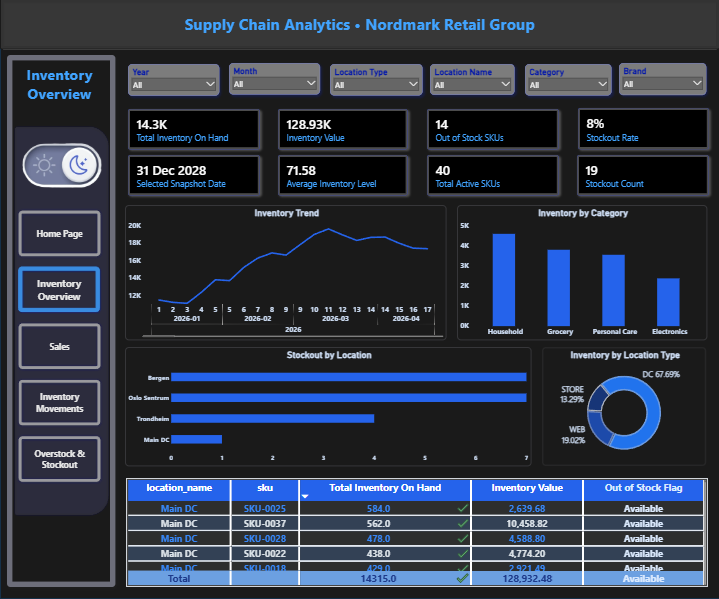

Layout of this report page (visuals, bound fields, positions):
{"tool":"powerbi","page":{"name":"Inventory Overview","canvas":[3600,3000],"ordinal":1},"visuals":[{"type":"slicer","fields":{"Values":["dim_date.Month (Short)"]},"box":[1142.7,322.7,456.4,158],"z":0,"group":"g3"},{"type":"group","id":"g1","title":"Group 2","box":[630,547.2,2903.9,205.9],"z":0,"group":"g4"},{"type":"cardVisual","fields":{"Data":["A Measures.Total Inventory On Hand"]},"box":[630,550.5,659.1,201.7],"z":0,"group":"g1"},{"type":"cardVisual","fields":{"Data":["A Measures.Selected Snapshot Date"]},"box":[630,780.5,659.1,201.7],"z":0,"group":"g2"},{"type":"slicer","fields":{"Values":["silver__location_master__lite.location_name"]},"box":[2152.2,325.8,423.3,155],"z":1000,"group":"g3"},{"type":"cardVisual","fields":{"Data":["A Measures.Inventory Value"]},"box":[1381.1,550.5,648,201.7],"z":1000,"group":"g1"},{"type":"shape","box":[33.7,632.2,515,1960],"z":1000},{"type":"group","id":"g2","title":"Group 2","box":[630,780.5,2905,201.7],"z":1000,"group":"g4"},{"type":"cardVisual","fields":{"Data":["A Measures.Average Inventory Level"]},"box":[1381.1,780.5,648,201.7],"z":1000,"group":"g2"},{"type":"slicer","fields":{"Values":["silver__product_master__lite.brand"]},"box":[3094.7,321.7,436.5,161],"z":2000,"group":"g3"},{"type":"cardVisual","fields":{"Data":["A Measures.Out of Stock SKUs"]},"box":[2124.8,550.5,659.1,201.7],"z":2000,"group":"g1"},{"type":"cardVisual","fields":{"Data":["A Measures.Total Active SKUs"]},"box":[2124.8,780.5,659.1,201.7],"z":2000,"group":"g2"},{"type":"shape","box":[33.7,280.5,542.4,2659.6],"z":3000},{"type":"slicer","fields":{"Values":["silver__product_master__lite.category"]},"box":[2625.1,325.8,433.2,158],"z":3000,"group":"g3"},{"type":"cardVisual","fields":{"Data":["A Measures.Stockout Rate %"]},"box":[2879.1,547.2,654.8,205.9],"z":3000,"group":"g1"},{"type":"cardVisual","fields":{"Data":["A Measures.Stockout Count"]},"box":[2875.9,780.5,659.1,201.7],"z":3000,"group":"g2"},{"type":"slicer","fields":{"Values":["dim_date.Year"]},"box":[639.7,325.8,457.4,159.4],"z":4000,"group":"g3"},{"type":"slicer","fields":{"Values":["silver__location_master__lite.location_type"]},"box":[1648.4,325.8,463,158],"z":5000,"group":"g3"},{"type":"lineChart","title":"Inventory Trend","fields":{"Category":["dim_date.Year","dim_date.Year-Month","dim_date.ISO Week Number"],"Y":["A Measures.Inventory On Hand (Month End)"]},"box":[624.7,1028.7,1608.5,677.1],"z":5000},{"type":"clusteredBarChart","title":"Stockout by Location","fields":{"Category":["silver__location_master__lite.location_name"],"Y":["A Measures.Out of Stock SKUs"]},"box":[625,1740,2033.3,596.7],"z":6000},{"type":"clusteredColumnChart","title":"Inventory by Category","fields":{"Category":["silver__product_master__lite.category"],"Y":["A Measures.Inventory On Hand (Month End)"]},"box":[2280,1030,1252.4,676.7],"z":7000},{"type":"donutChart","title":"Inventory by Location Type","fields":{"Category":["silver__location_master__lite.location_type"],"Y":["A Measures.Total Inventory On Hand"]},"box":[2710,1740,820.6,594.5],"z":8000},{"type":"tableEx","fields":{"Values":["silver__location_master__lite.location_name","silver__product_master__lite.sku","A Measures.Total Inventory On Hand","A Measures.Inventory Value","A Measures.Out of Stock Flag"]},"box":[625,2395,2910,545],"z":9000},{"type":"group","id":"g3","title":"Group 1","box":[639.7,321.7,2891.5,157.1],"z":10000},{"type":"group","id":"g4","title":"Group 3","box":[630,547.2,2900,435],"z":11000},{"type":"pageNavigator","box":[82.3,1047.4,435,1385],"z":12000},{"type":"image","box":[41.1,669.6,540,300],"z":13000},{"type":"textbox","box":[74.8,325.4,445.1,351.6],"z":14000},{"type":"shape","box":[0,0,3598.5,250.6],"z":15000}]}

Visuals, with their boxes in screenshot pixels (x1, y1, x2, y2), scaled from the page's 3600x3000 canvas onto the 719x599 screenshot:
slicer - dim_date.Month (Short): BBox(228, 64, 319, 96)
"Group 2" group: BBox(126, 109, 706, 150)
cardVisual - A Measures.Total Inventory On Hand: BBox(126, 110, 257, 150)
cardVisual - A Measures.Selected Snapshot Date: BBox(126, 156, 257, 196)
slicer - silver__location_master__lite.location_name: BBox(430, 65, 514, 96)
cardVisual - A Measures.Inventory Value: BBox(276, 110, 405, 150)
shape: BBox(7, 126, 110, 518)
"Group 2" group: BBox(126, 156, 706, 196)
cardVisual - A Measures.Average Inventory Level: BBox(276, 156, 405, 196)
slicer - silver__product_master__lite.brand: BBox(618, 64, 705, 96)
cardVisual - A Measures.Out of Stock SKUs: BBox(424, 110, 556, 150)
cardVisual - A Measures.Total Active SKUs: BBox(424, 156, 556, 196)
shape: BBox(7, 56, 115, 587)
slicer - silver__product_master__lite.category: BBox(524, 65, 611, 97)
cardVisual - A Measures.Stockout Rate %: BBox(575, 109, 706, 150)
cardVisual - A Measures.Stockout Count: BBox(574, 156, 706, 196)
slicer - dim_date.Year: BBox(128, 65, 219, 97)
slicer - silver__location_master__lite.location_type: BBox(329, 65, 422, 97)
"Inventory Trend" lineChart: BBox(125, 205, 446, 341)
"Stockout by Location" clusteredBarChart: BBox(125, 347, 531, 467)
"Inventory by Category" clusteredColumnChart: BBox(455, 206, 705, 341)
"Inventory by Location Type" donutChart: BBox(541, 347, 705, 466)
tableEx - silver__location_master__lite.location_name x silver__product_master__lite.sku: BBox(125, 478, 706, 587)
"Group 1" group: BBox(128, 64, 705, 96)
"Group 3" group: BBox(126, 109, 705, 196)
pageNavigator: BBox(16, 209, 103, 486)
image: BBox(8, 134, 116, 194)
textbox: BBox(15, 65, 104, 135)
shape: BBox(0, 0, 718, 50)
